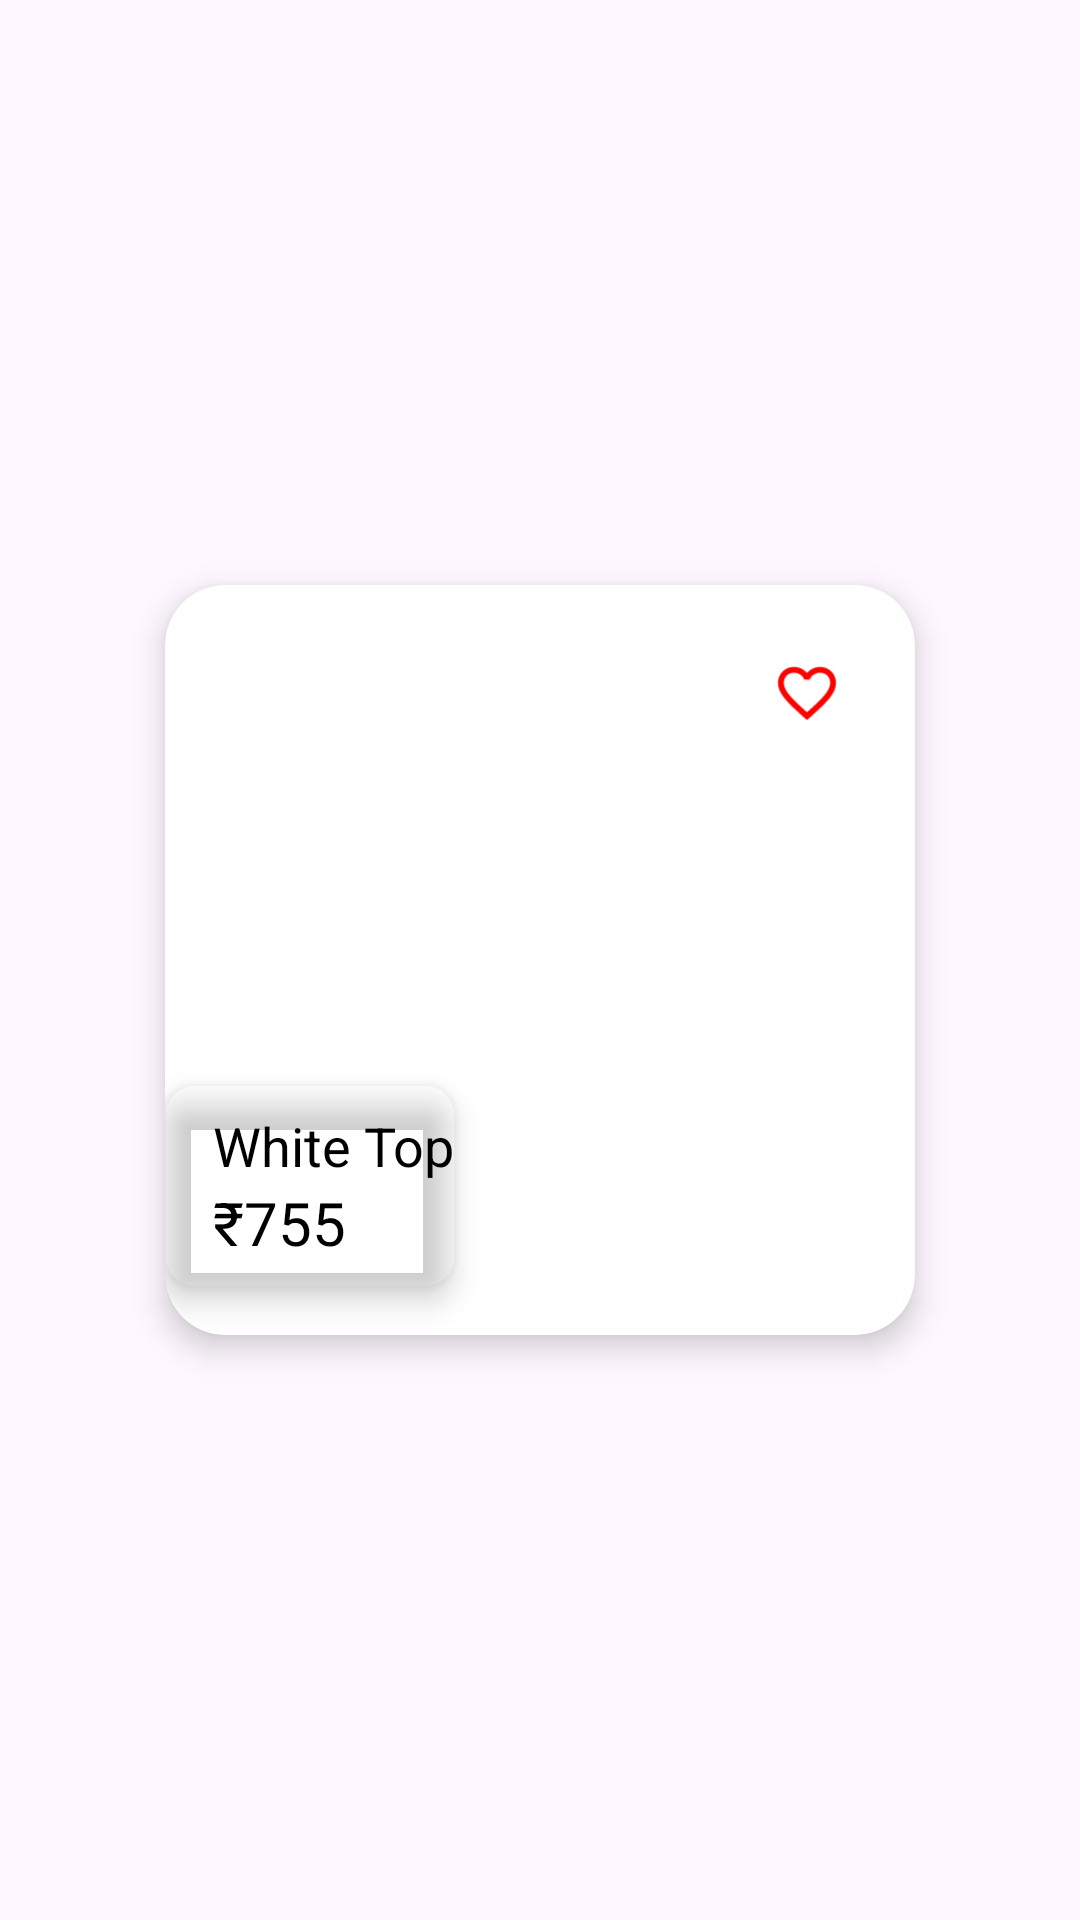

Screen size 1080*1920. Icon name, then its center in pixels as (x=x, y=y):
heart: (x=807, y=693)
